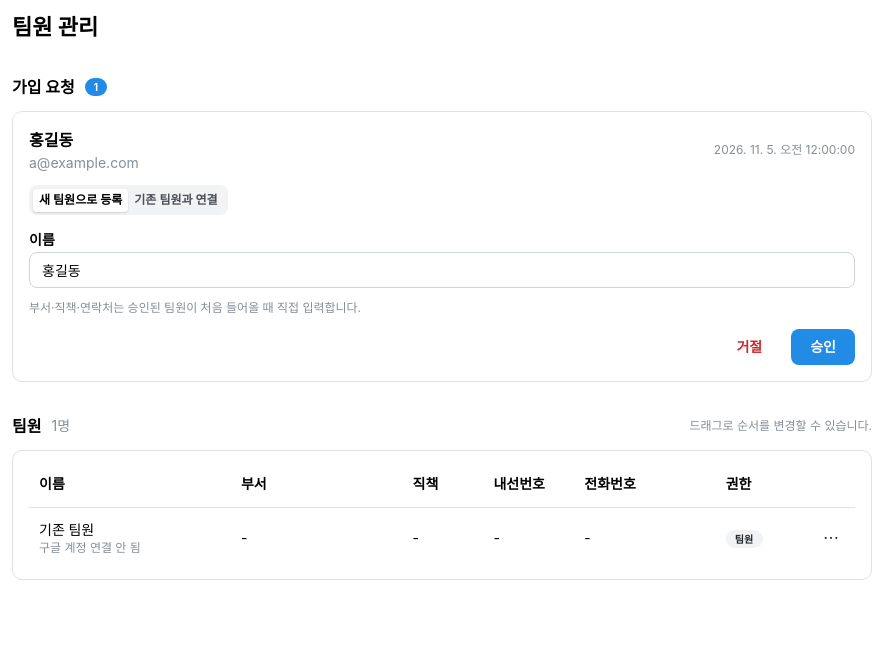
Test: 팀원 관리 › 상태 열 없이 활성 팀원 메뉴에는 다시 활성화가 없다
Check: the text "기존 팀원" is shown, box [39,520,94,540]
Click the button named "기존 팀원 메뉴" at (831, 538), box [817,524,845,552]
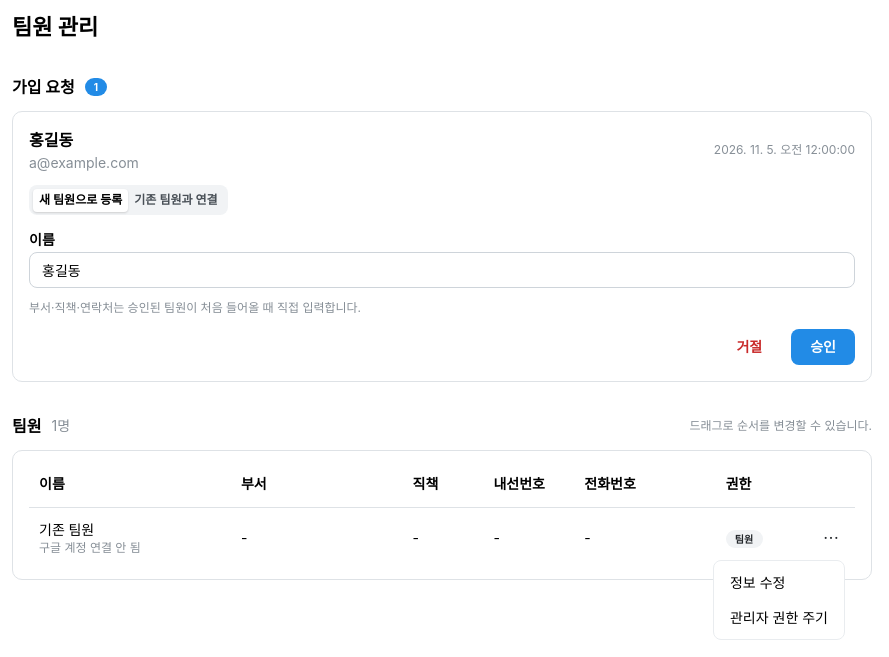
Check: the text "정보 수정" is shown, box [730,574,785,591]
